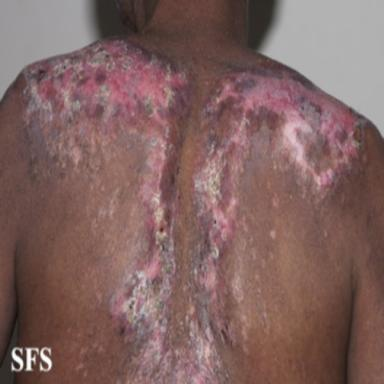Lupus-Erythematosus-Chronicus-Discoides: (18, 35, 365, 384)
